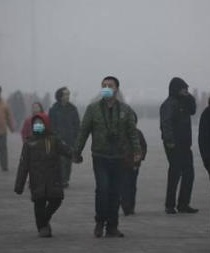person: (75, 74, 135, 240), (10, 115, 85, 243), (157, 76, 200, 217), (43, 85, 86, 188), (121, 108, 148, 216), (1, 86, 14, 174), (7, 90, 26, 132), (133, 102, 161, 119), (190, 88, 200, 127), (43, 91, 52, 110), (199, 91, 209, 108)
